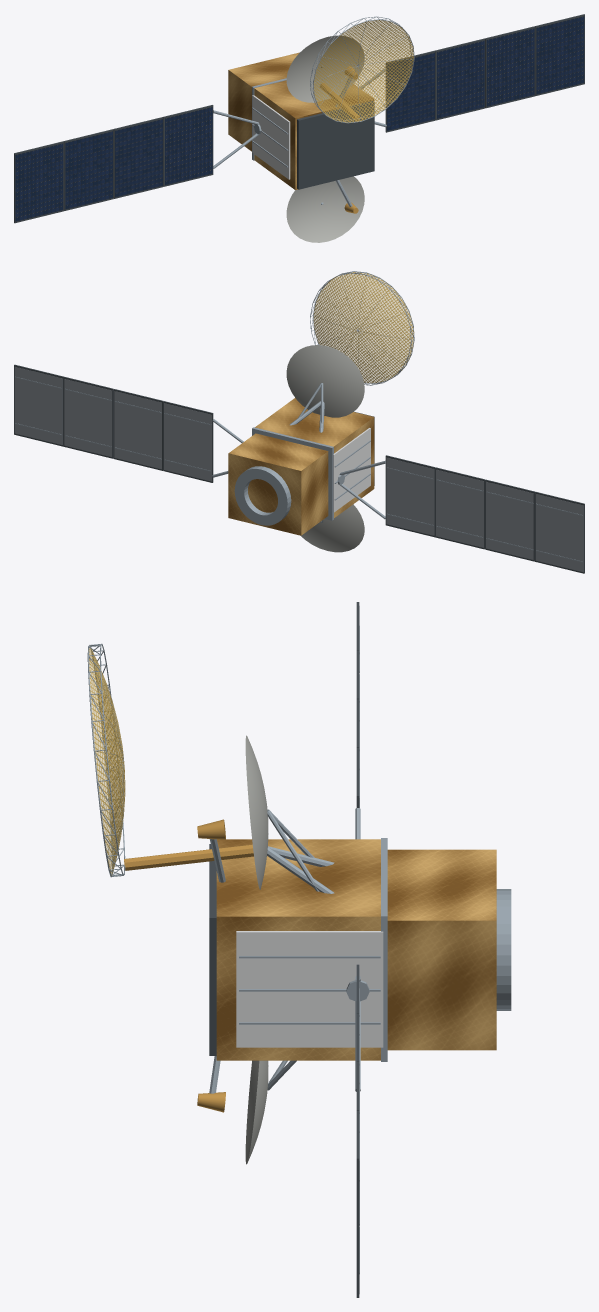
Rendered from a2100ax-jcsat-mesh.glb.
The picture shows the model from 3 angles, top to bottom: view 1: azimuth 30°, elevation 25°; view 2: azimuth 150°, elevation 25°; view 3: azimuth 270°, elevation 25°; orthographic projection. The views are drawn at different scales.
Parts seen in each view (by area): view 1: Solar cell panel (×8), Deployable mesh reflector, Communications reflector (×2), Earth-facing deck, Solar panel frame (×8), Payload module, Service module, Radiator face; view 2: Rear array substrate (×8), Deployable mesh reflector, Service module, Communications reflector (×2), Solar panel frame (×8), Payload module, Radiator face, Launch adapter ring, Module interface; view 3: Service module, Payload module, Radiator face, Deployable mesh reflector, Communications reflector (×2), Launch adapter ring, Earth-facing deck, Reflector deployment boom, Module interface.
Part boxes in pixels (x1,y1,x2,y2): Solar cell panel (×8): [15, 16, 584, 221]; Deployable mesh reflector: [313, 19, 413, 122]; Communications reflector (×2): [286, 35, 364, 242]; Earth-facing deck: [297, 101, 374, 189]; Solar panel frame (×8): [14, 14, 584, 223]; Payload module: [254, 80, 374, 189]; Service module: [228, 52, 299, 151]; Radiator face: [252, 95, 290, 179]; Rear array substrate (×8): [14, 367, 583, 572]; Deployable mesh reflector: [313, 271, 414, 383]; Service module: [228, 433, 328, 535]; Communications reflector (×2): [286, 345, 364, 552]; Solar panel frame (×8): [14, 364, 584, 573]; Payload module: [255, 398, 374, 517]; Radiator face: [333, 428, 370, 512]; Launch adapter ring: [234, 466, 291, 525]; Module interface: [252, 427, 333, 520]; Service module: [387, 849, 496, 1050]; Payload module: [216, 839, 380, 1060]; Radiator face: [236, 931, 383, 1047]; Deployable mesh reflector: [88, 647, 125, 875]; Communications reflector (×2): [245, 735, 268, 1164]; Launch adapter ring: [496, 889, 511, 1010]; Earth-facing deck: [209, 844, 216, 1055]; Reflector deployment boom: [124, 844, 253, 870]; Module interface: [381, 838, 387, 1061].
Bounding box in the file's own units: 25.98 × 10.89 × 8.36.
Materials: 9 (3 with a texture image).
